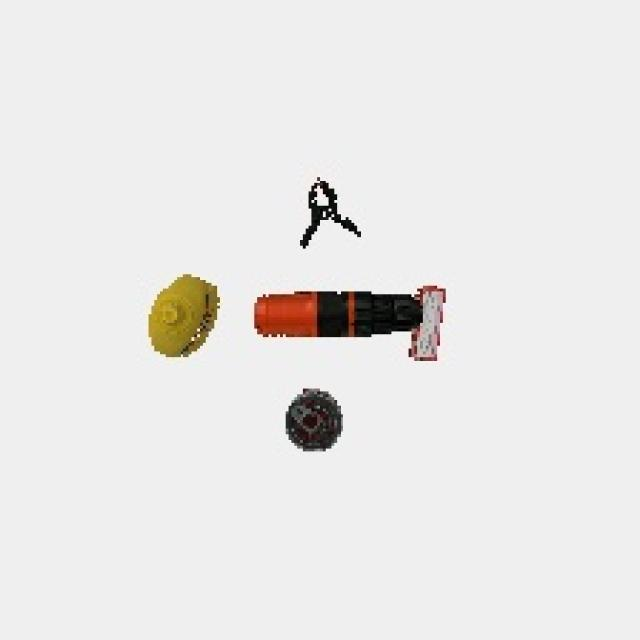MediumClamp: (291, 170, 370, 257)
MustardBottle: (134, 266, 230, 367)
TomatoSoupCan: (272, 384, 351, 458)
